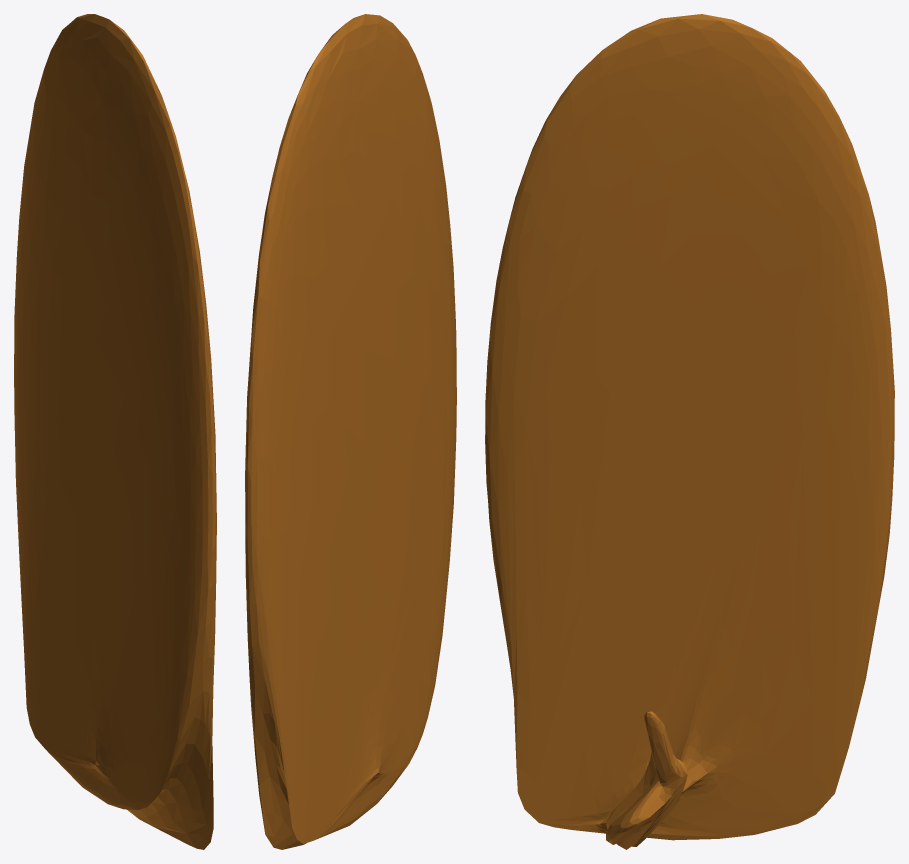
3 views of the same model, side by side, from view 1: azimuth 30°, elevation 25°; view 2: azimuth 150°, elevation 25°; view 3: azimuth 270°, elevation 25° (orthographic). The views are drawn at different scales.
Visible parts, largest first — view 1: 695_Cube.2791; view 2: 695_Cube.2791; view 3: 695_Cube.2791.
Part boxes in pixels (x1,y1,x2,y2): 695_Cube.2791: (14,14,216,849); 695_Cube.2791: (245,14,456,849); 695_Cube.2791: (485,14,894,849).
Bounding box in the file's own units: 1.23 × 11.18 × 5.06.
